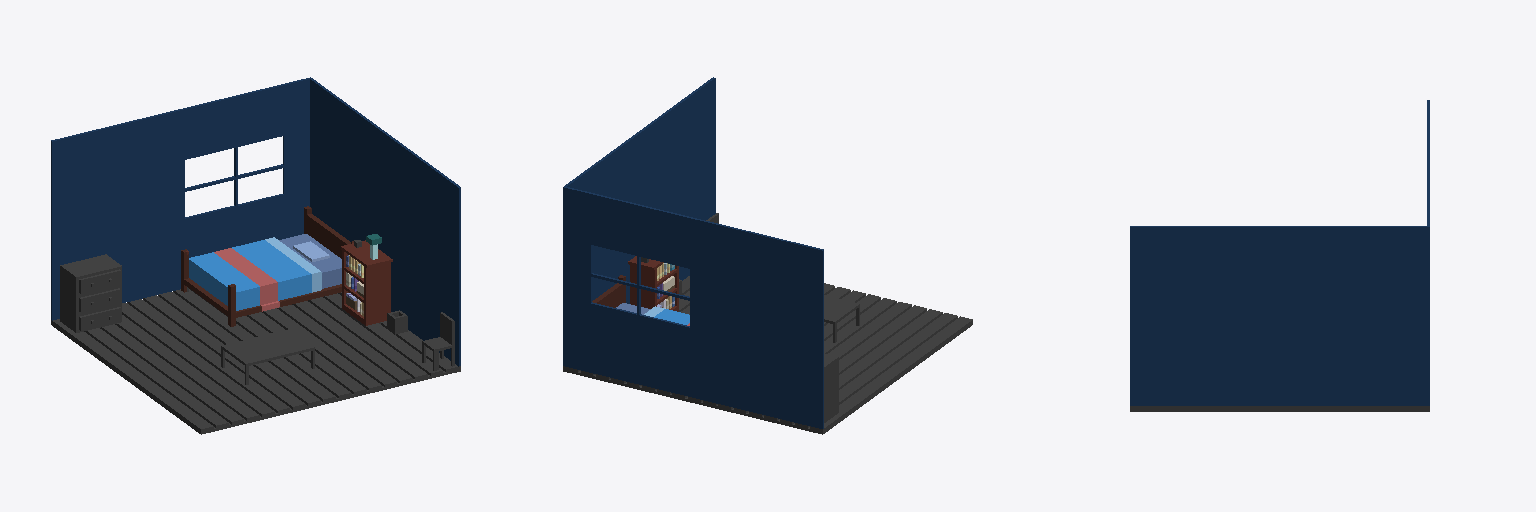
The picture shows the model from 3 angles: view 1: azimuth 30°, elevation 25°; view 2: azimuth 150°, elevation 25°; view 3: azimuth 270°, elevation 25°; orthographic projection.
Bounding box in the file's own units: 102 × 69 × 102.
Materials: 1 (1 with a texture image).